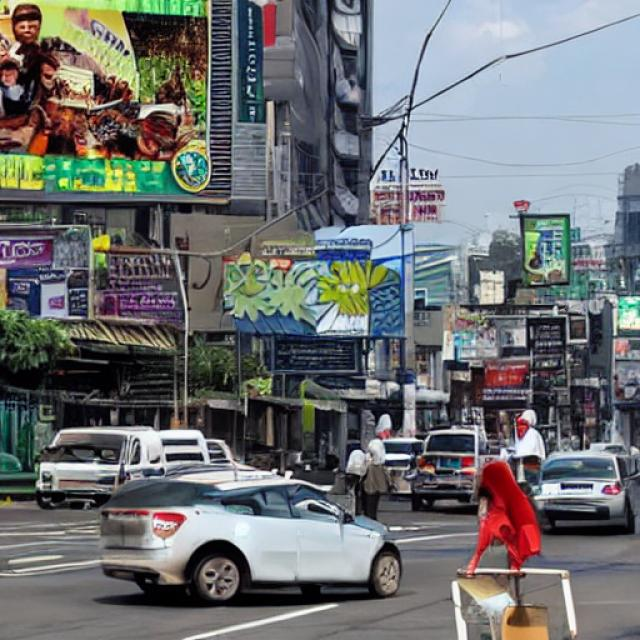Billboard: (0, 0, 216, 201)
